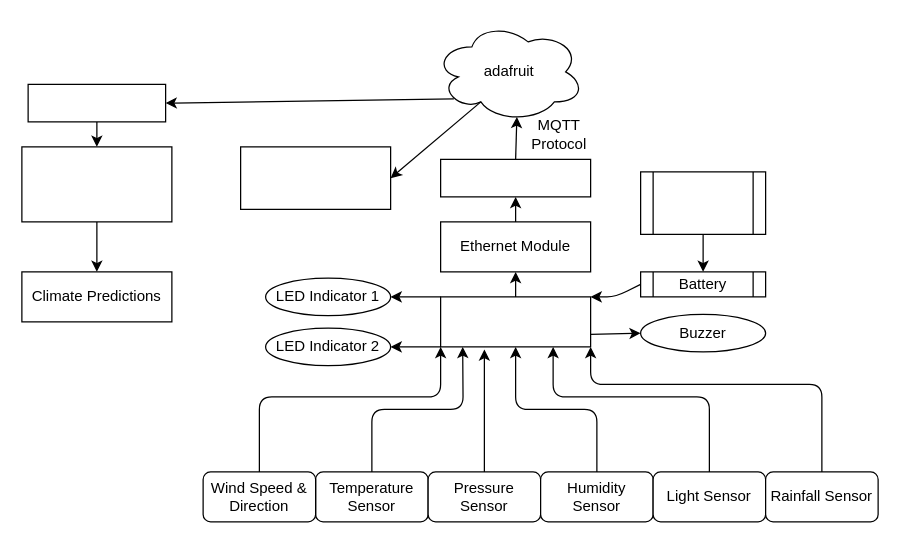
Some shapes in this 900 by 544 pixel diagram are drawn without their labels. The shapes that lost their labels are listed below. From the top down, each one's centre as x and y in pixels, then its label:
At (x=96, y=102): "Export Past Data(.csv file)".
At (x=96, y=184): "Machine Learning Algorithm(Google Co-lab)".
At (x=315, y=177): "Dashboard Of Current Information (adafruit)".
At (x=515, y=177): "Internet Access Point".
At (x=702, y=202): "Solar Cell".
At (x=515, y=321): "Arduino Uno".
